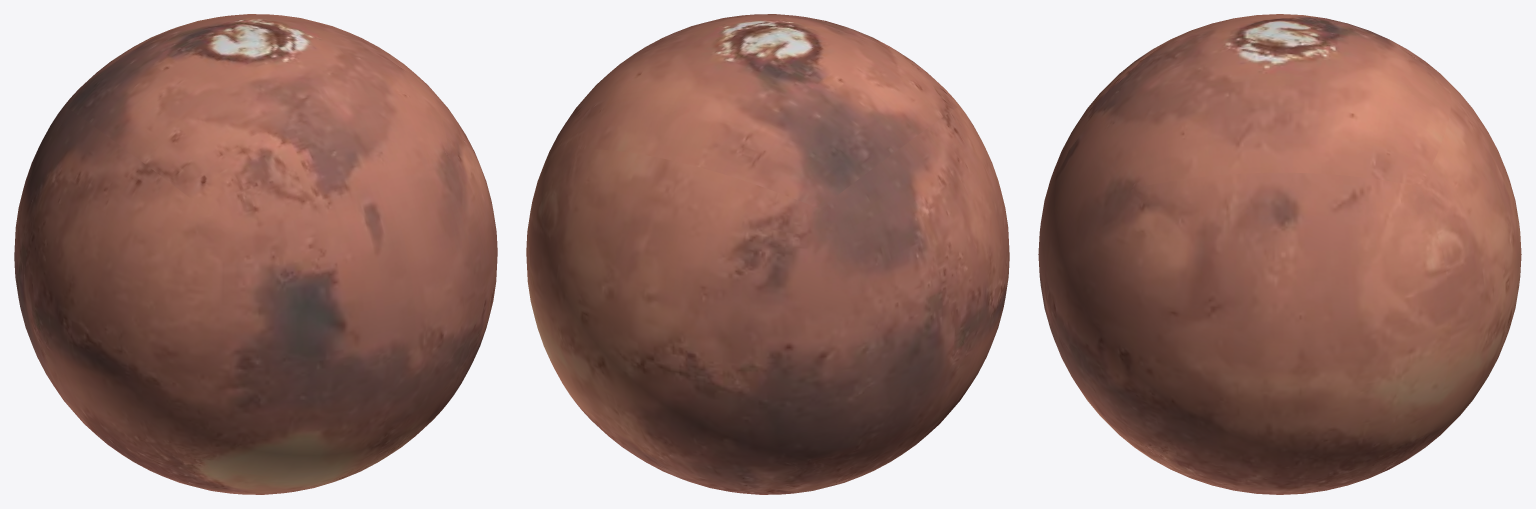
The model's file is mars.glb.
3 views of the same model, side by side, from view 1: azimuth 30°, elevation 25°; view 2: azimuth 150°, elevation 25°; view 3: azimuth 270°, elevation 25° (orthographic).
Parts seen in each view (by area): view 1: Cube.008; view 2: Cube.008; view 3: Cube.008.
Part boxes in pixels (left/top/right/bottom): Cube.008: left=14, top=14, right=497, bottom=494; Cube.008: left=526, top=14, right=1009, bottom=494; Cube.008: left=1038, top=14, right=1521, bottom=494.
Bounding box in the file's own units: 1000 × 994 × 1000.
1 material, 1 textured.
